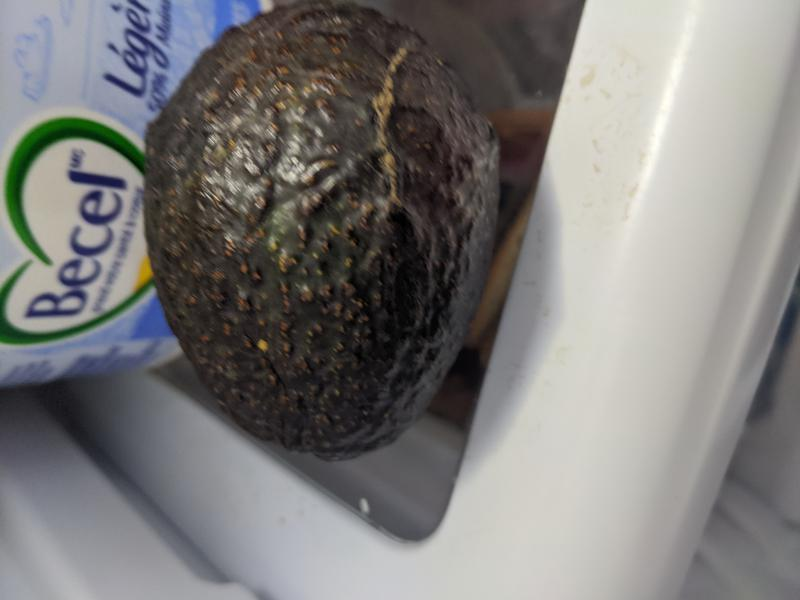avocado: (142, 4, 502, 463)
